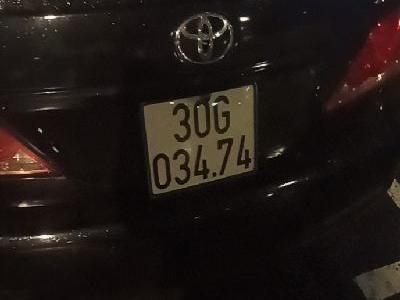car: (137, 83, 261, 200)
